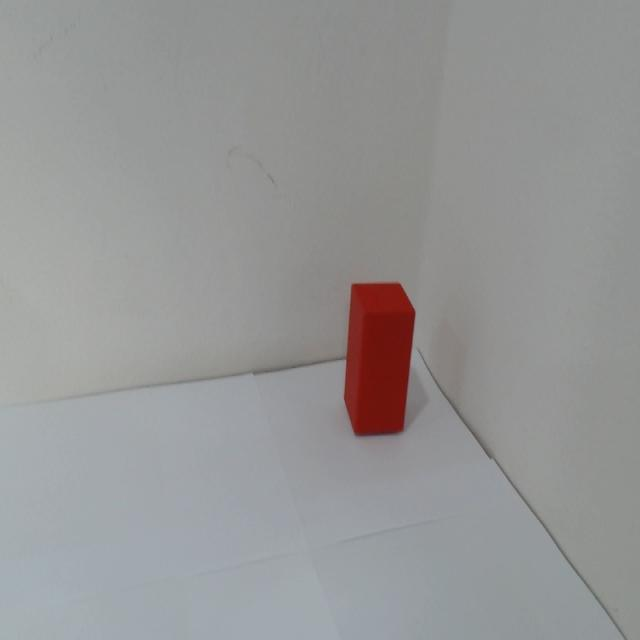cube: (336, 272, 423, 444)
